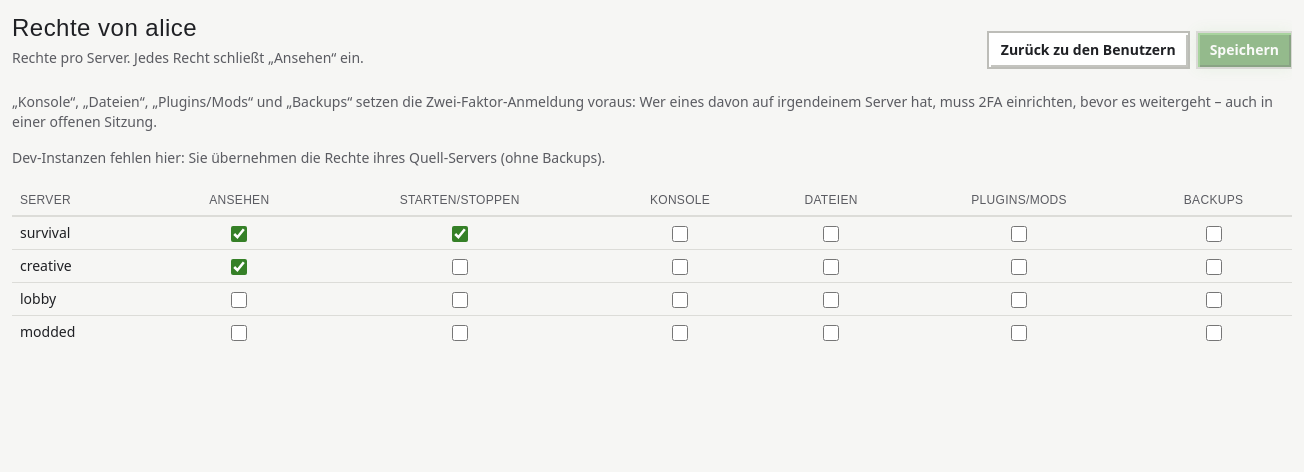
Test: UserPermissionsPage › warns before granting backup access
Check: the heading "Rechte von alice" is shown, box [12,14,197,41]
Check: the text "„Backups“ erlaubt" is not shown
Click the checkbox named "survival: Backups" at [1214, 234], box [1206,226,1222,242]
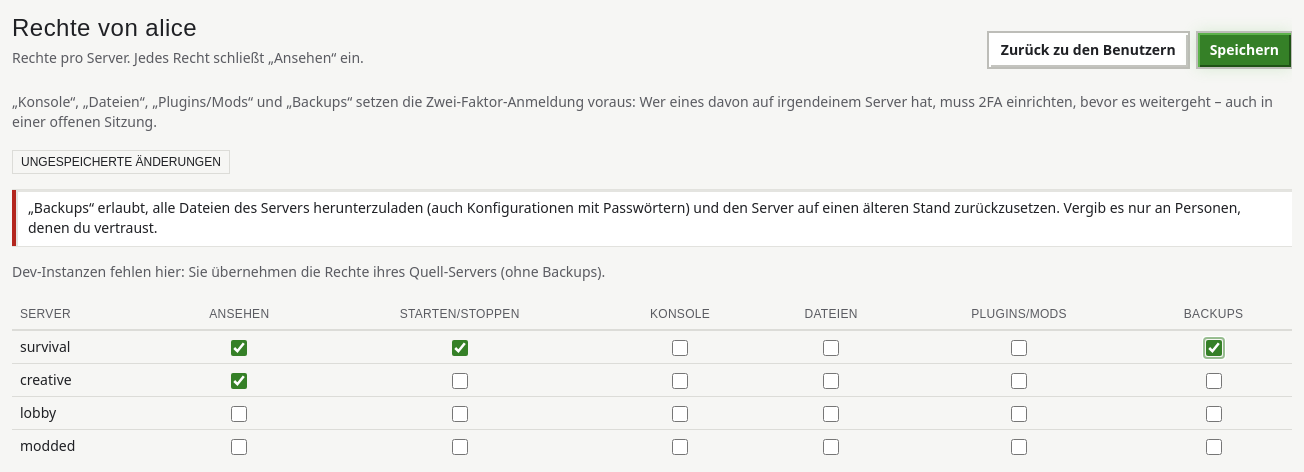
Check: the text "„Backups“ erlaubt, alle Dateien des Servers herunterzuladen" is shown, box [28,198,1241,237]
